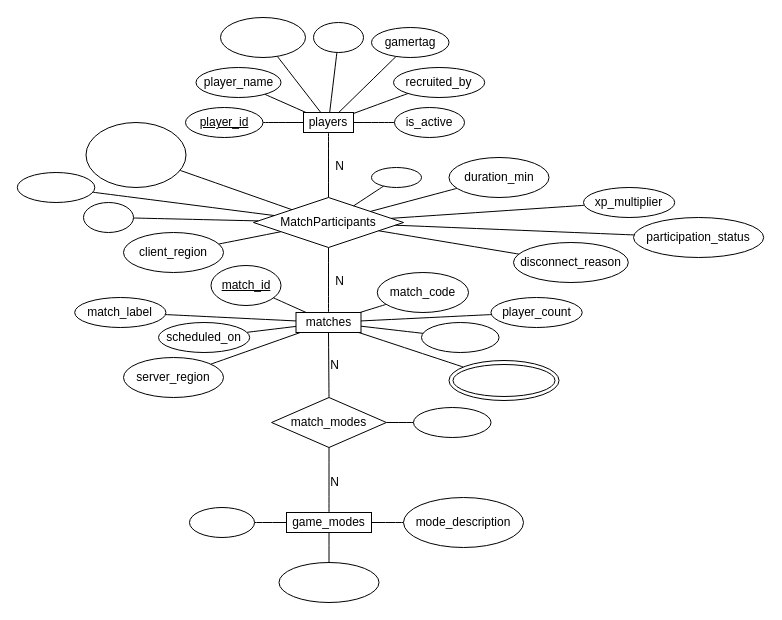
Some shapes in this 782 by 620 pixel diagram are drawn without their labels. The shapes that lost their labels are listed below. From the top down, each one's centre as x and y in pixels, then its label:
point (263, 37): signup_date
point (338, 37): region
point (135, 155): participation_id
point (55, 187): joined_at
point (396, 177): score
point (108, 217): left_at
point (459, 337): is_ranked
point (503, 380): platform_code
point (451, 422): enabled_on
point (221, 522): mode_id
point (328, 582): mode_name
